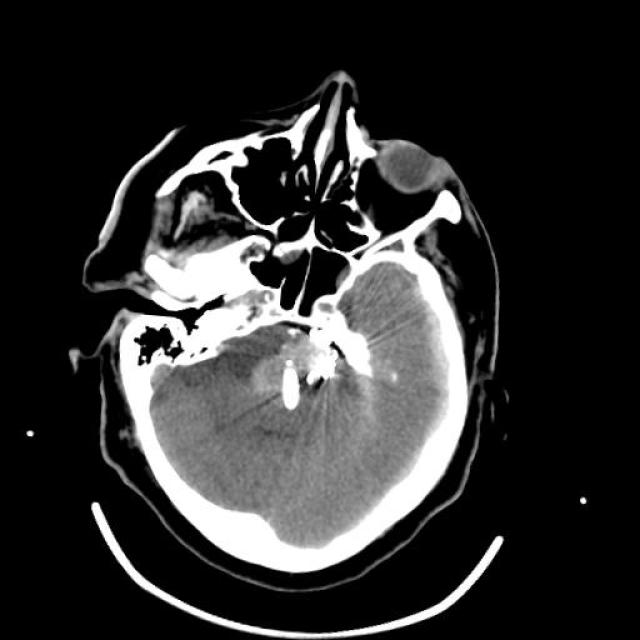Subdural: (385, 280, 479, 506)
